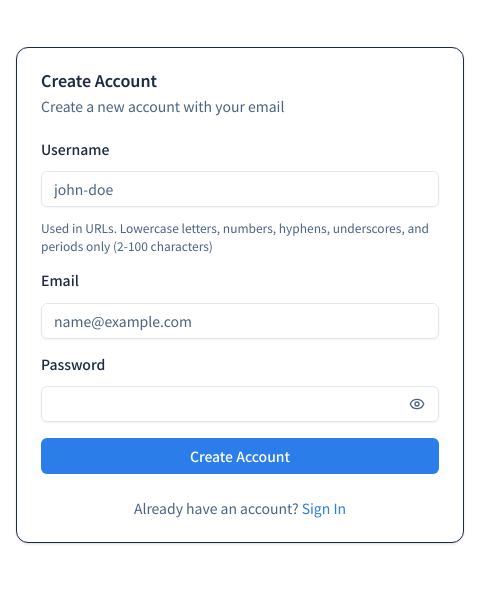
it: SignUpPage › should show error message on failed sign-up
Type "testuser" into the field labelled "Username" at (240, 189), box [41,171,439,207]
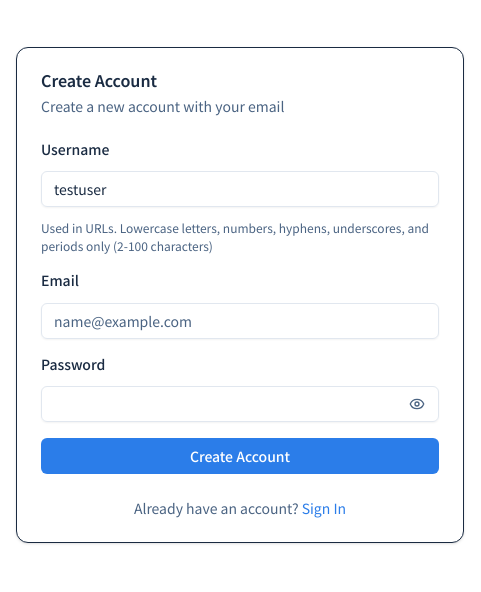
Type "user@example.com" into the field labelled "Email" at (240, 321), box [41,303,439,339]
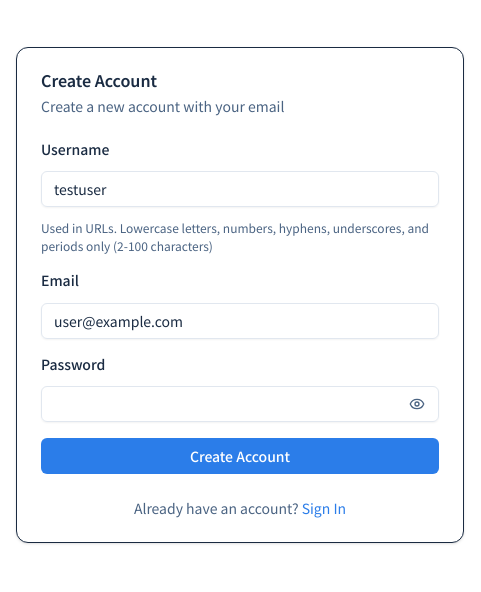
Type "harbor-lantern-quiet-42" into the password field labelled "Password" at (222, 404), box [42,386,401,422]
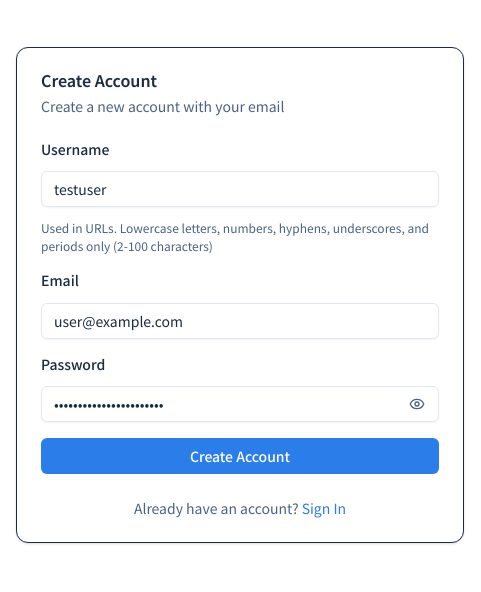
Click the button "Create Account" at (240, 456), box [41,438,439,474]
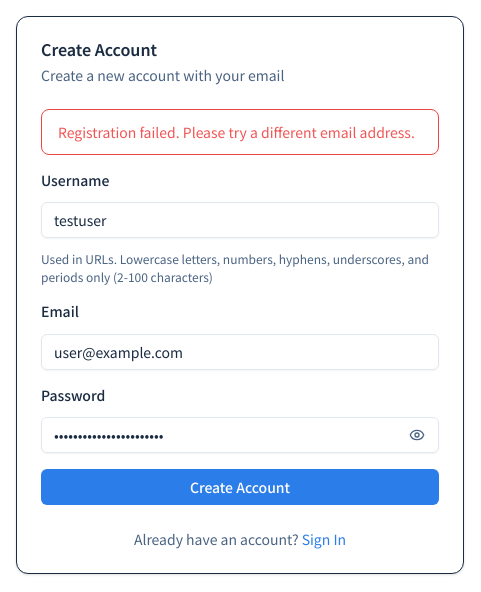
expect the text "Registration failed. Please try a different email address." is shown: met, box [58,122,422,142]
